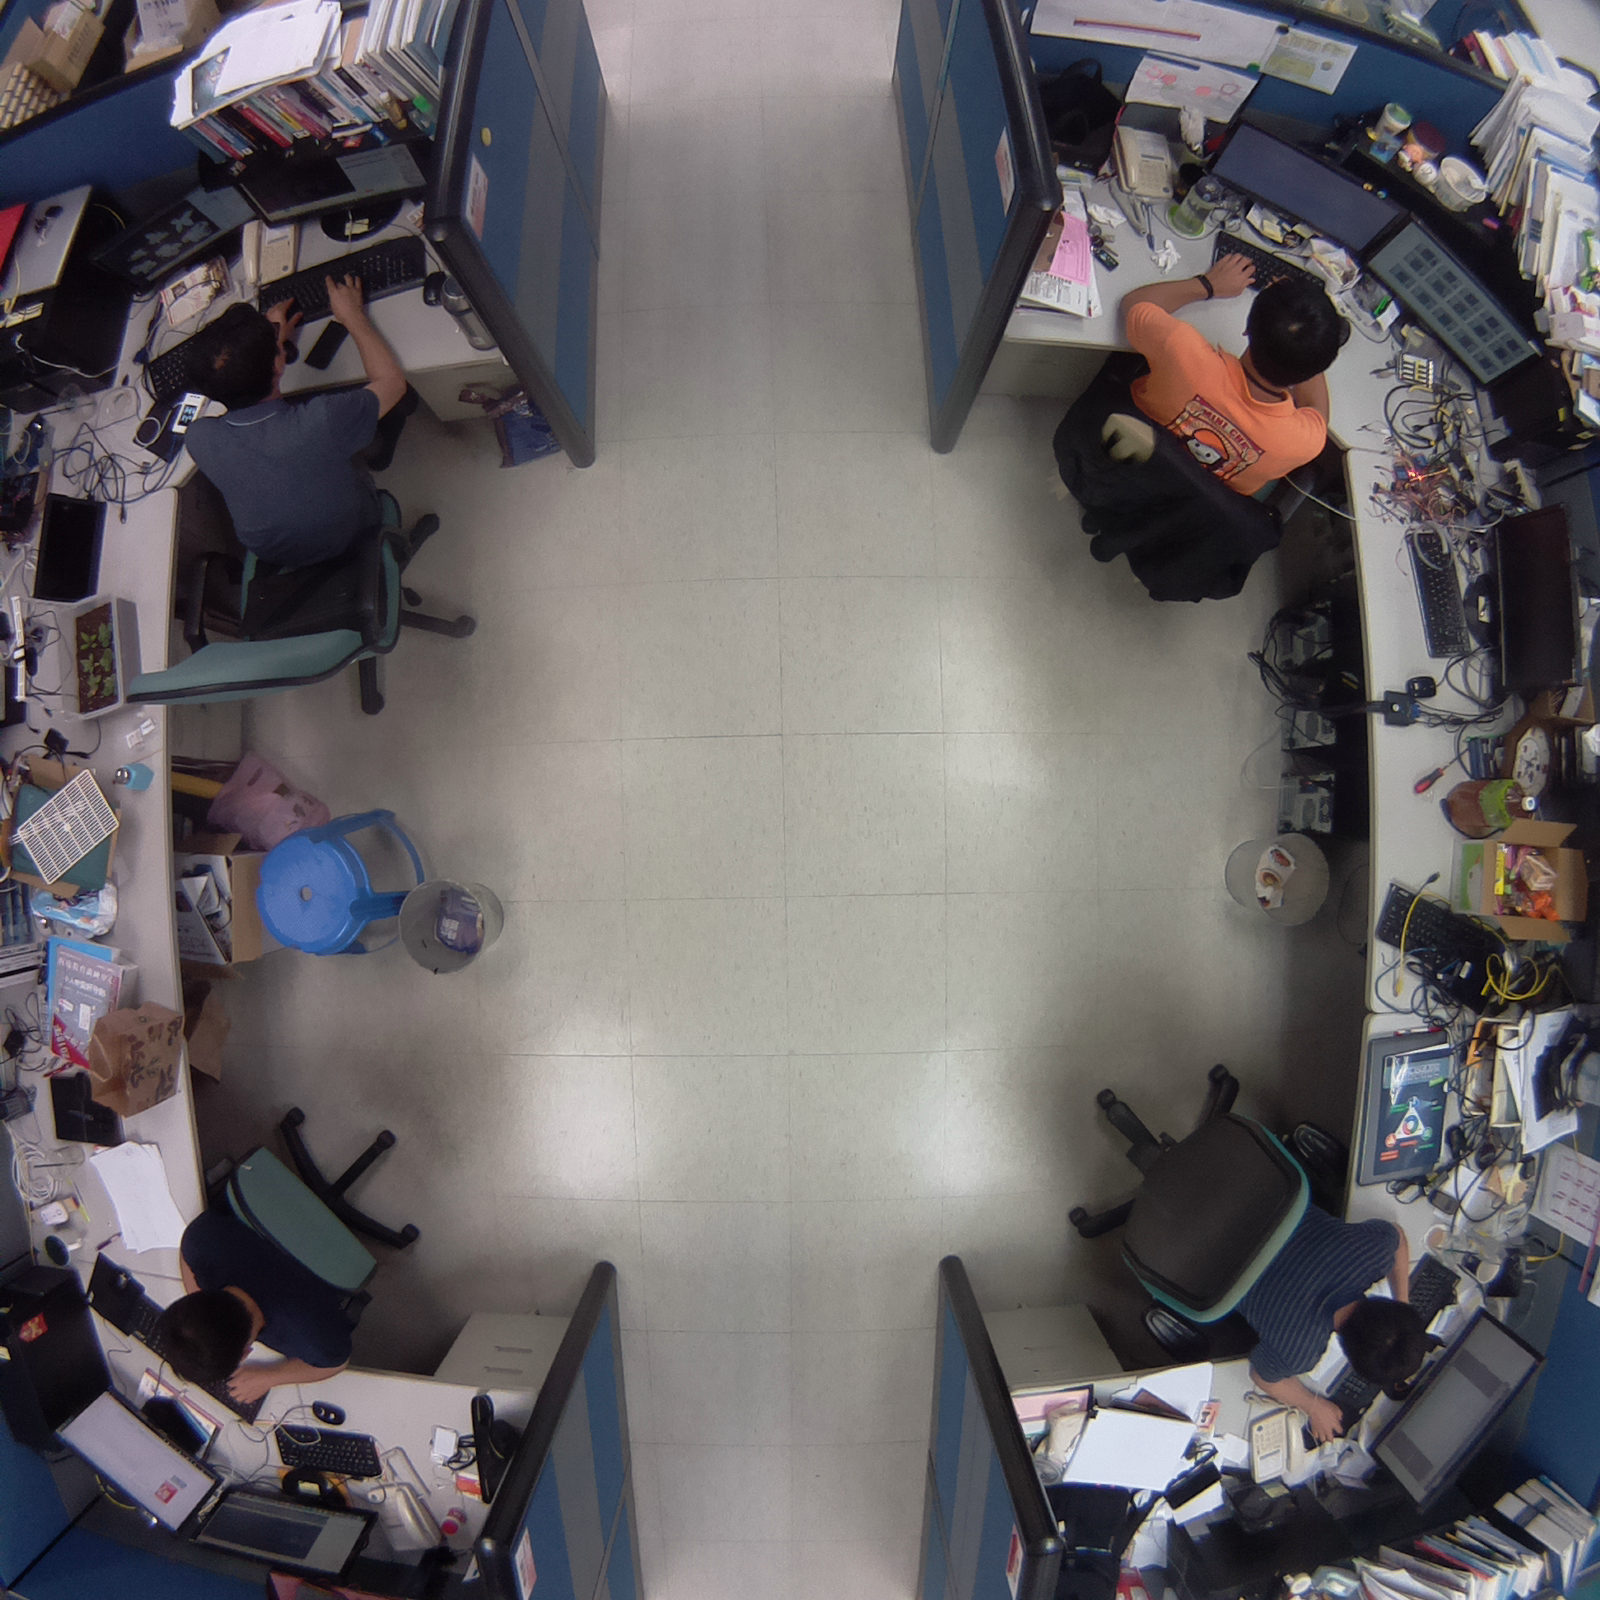head: (1237, 267, 1355, 392), (149, 1288, 264, 1397), (183, 297, 289, 409), (1333, 1290, 1439, 1396)
sitting: (96, 252, 494, 742), (1055, 1045, 1432, 1450), (1032, 242, 1360, 619), (137, 1088, 435, 1409)
